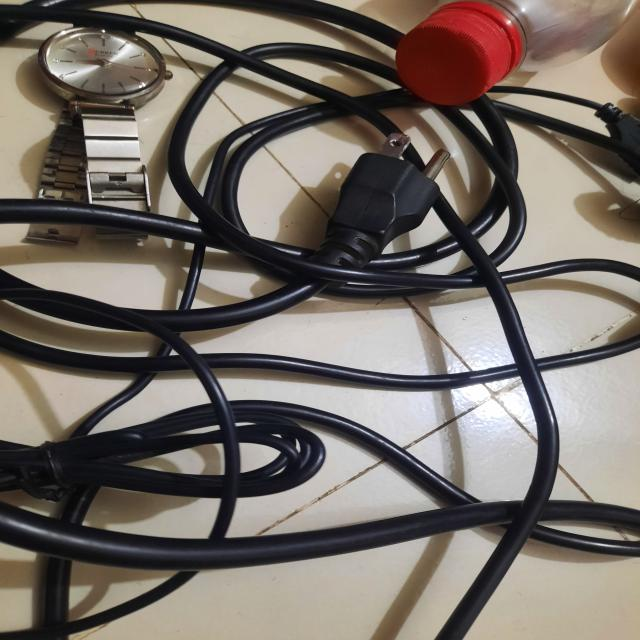Cable: (0, 3, 640, 640)
E-waste: (26, 24, 156, 215)
